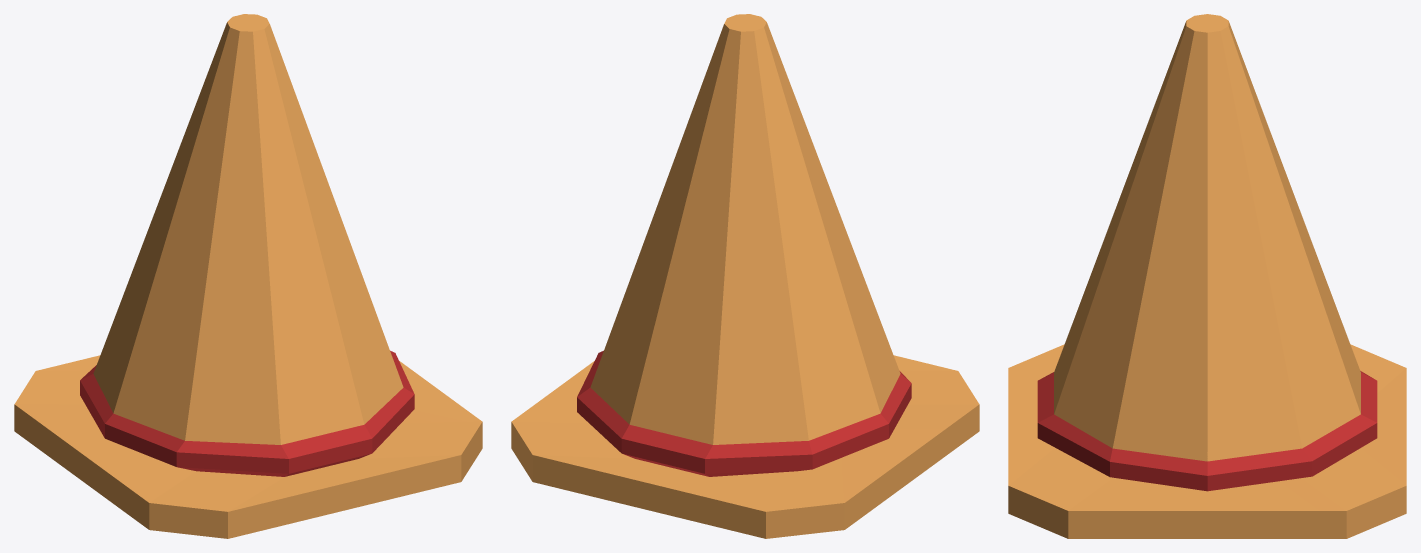
The model's file is Pilone.fbx.
The picture shows the model from 3 angles, left to right: view 1: azimuth 30°, elevation 25°; view 2: azimuth 150°, elevation 25°; view 3: azimuth 270°, elevation 25°; orthographic projection. The views are drawn at different scales.
Parts seen in each view (by area): view 1: ConeThingy; view 2: ConeThingy; view 3: ConeThingy.
Boxes of the visible parts, x1=… form: ConeThingy: x1=14, y1=14, x2=482, y2=538; ConeThingy: x1=511, y1=14, x2=979, y2=538; ConeThingy: x1=1008, y1=14, x2=1406, y2=538.
Bounding box in the file's own units: 2.31 × 2.76 × 2.31.
